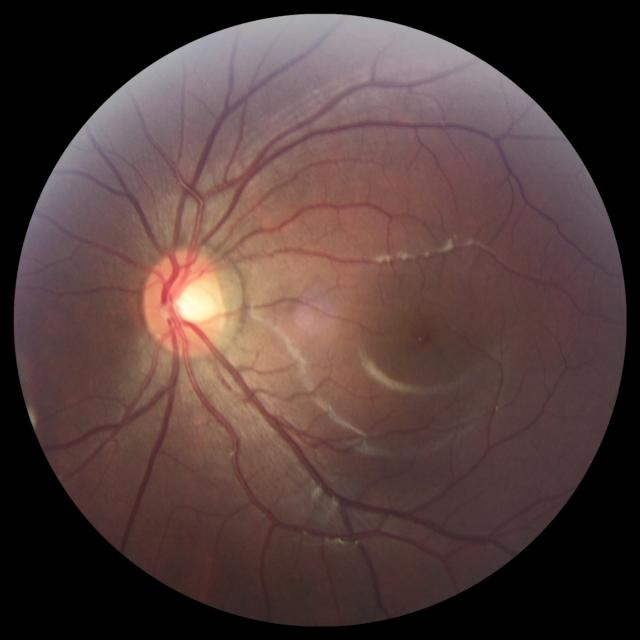OC: (171, 281, 211, 324)
OD: (142, 248, 226, 355)
